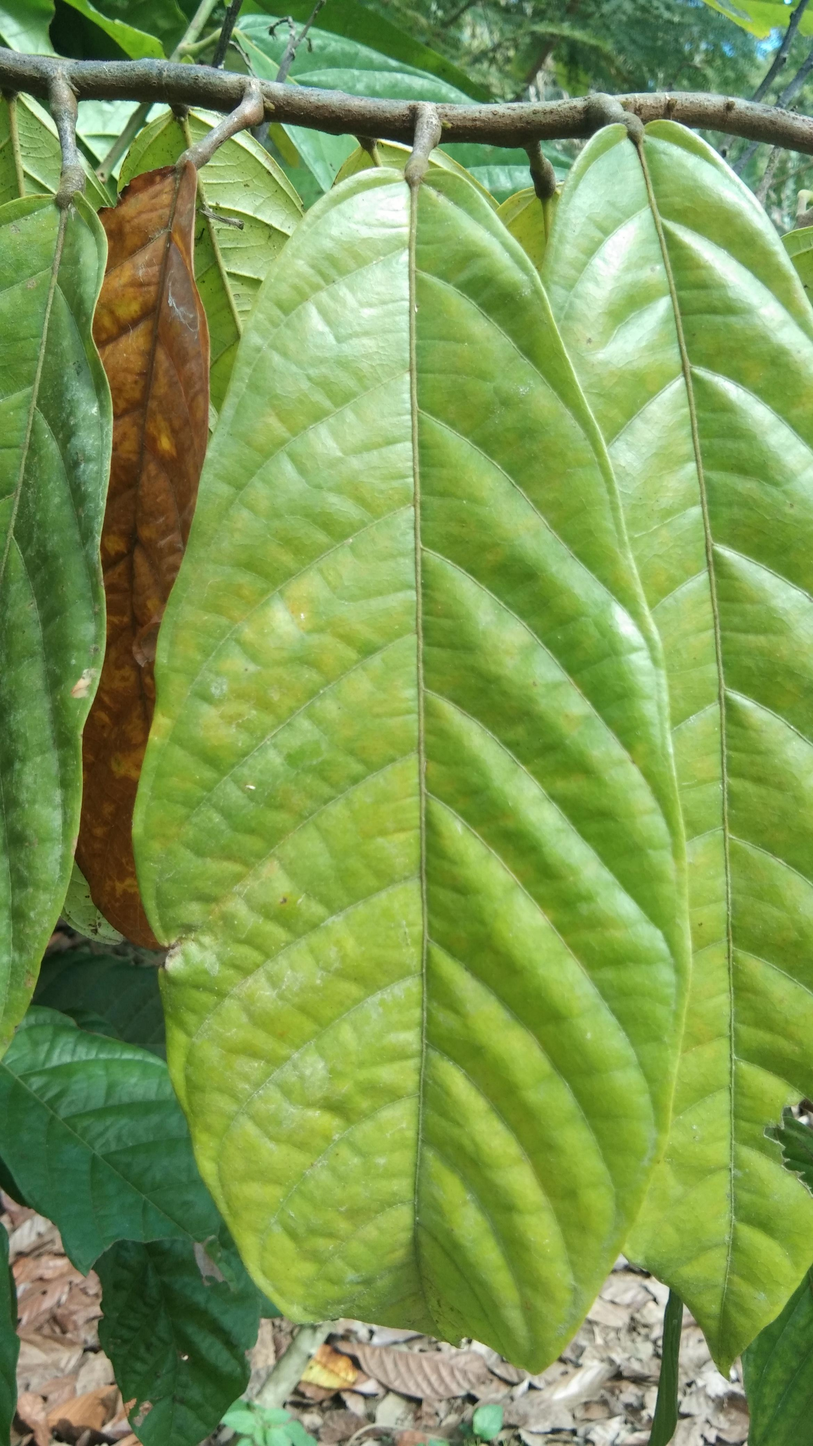deficiencia_potasio: (125, 177, 681, 1352)
